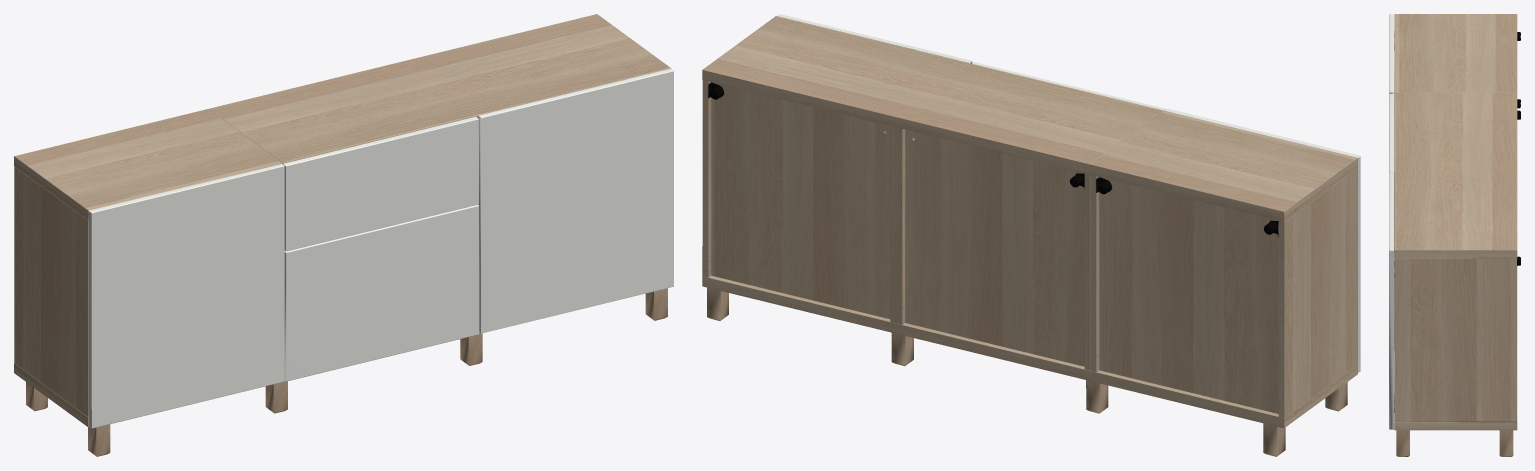
File: 28 - BESTÅ Storage combination with drawers - white stained oak effectLappviken white 180x42x74 cm.glb
3 renders of one model, left to right at view 1: azimuth 30°, elevation 25°; view 2: azimuth 150°, elevation 25°; view 3: azimuth 270°, elevation 25°, orthographic. The views are drawn at different scales.
Visible parts, largest first — view 1: Mesh_0; view 2: Mesh_0; view 3: Mesh_0.
Boxes of the visible parts, left/top/right/bottom form: Mesh_0: left=14, top=14, right=673, bottom=456; Mesh_0: left=702, top=14, right=1360, bottom=456; Mesh_0: left=1389, top=14, right=1520, bottom=456.
Bounding box in the file's own units: 1.8 × 0.7401 × 0.4241.
1 material, 1 textured.
